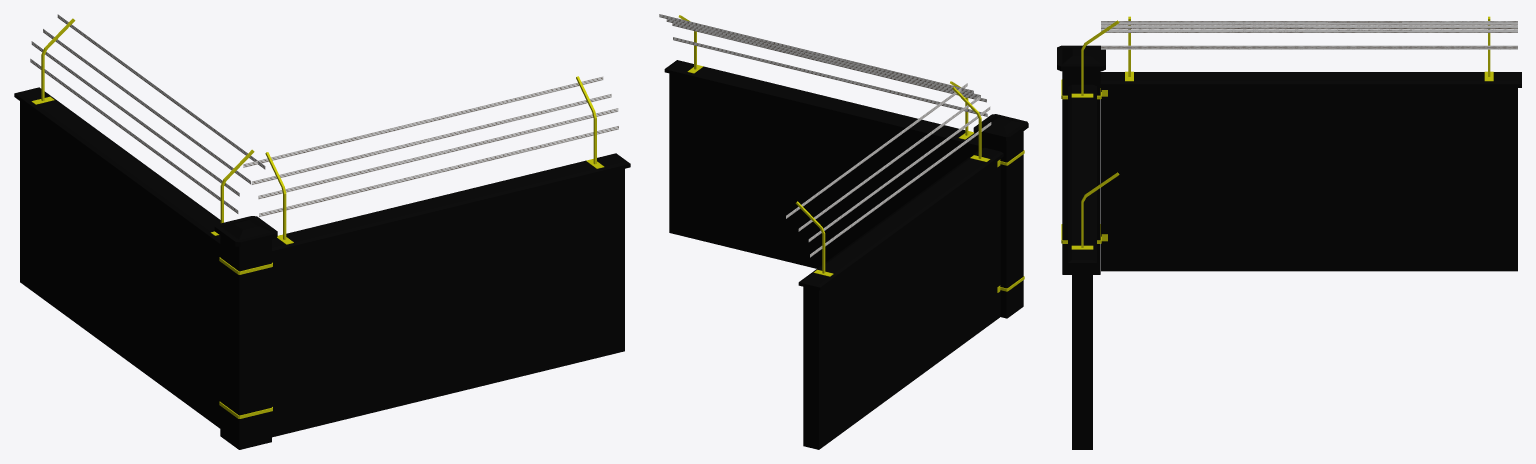
File: Wall_RightCorner.fbx
3 views of the same model, side by side, from view 1: azimuth 30°, elevation 25°; view 2: azimuth 150°, elevation 25°; view 3: azimuth 270°, elevation 25° (orthographic). The views are drawn at different scales.
Visible parts, largest first — view 1: WallB4, WallB3, WallBPost2; view 2: WallB4, WallB3, WallBPost2; view 3: WallB3, WallB4, WallBPost2.
Part boxes in pixels (x1,y1,x2,y2): WallB4: (243, 76, 630, 437); WallB3: (14, 14, 265, 428); WallBPost2: (214, 216, 277, 449); WallB4: (659, 14, 987, 268); WallB3: (786, 83, 1003, 449); WallBPost2: (973, 114, 1028, 318); WallB3: (1100, 16, 1521, 271); WallB4: (1068, 20, 1119, 449); WallBPost2: (1057, 45, 1107, 274).
Bounding box in the file's own units: 6.65 × 4.21 × 6.69.
